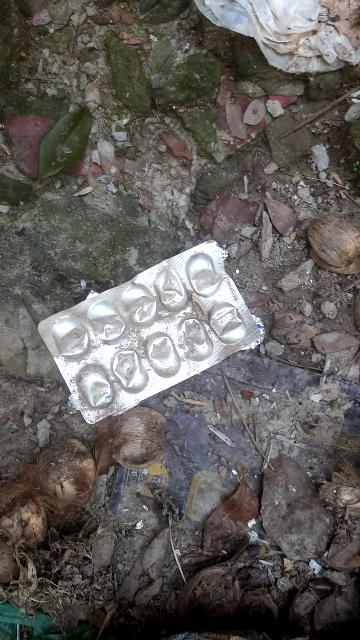medicine: (33, 220, 271, 427)
